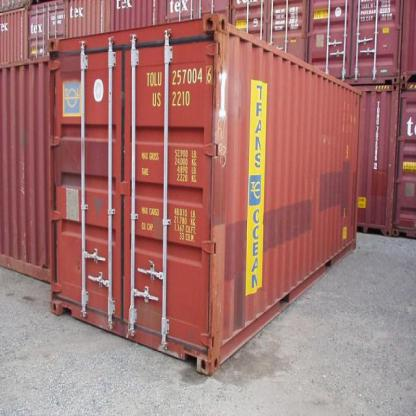Damage: (208, 270, 224, 371), (207, 28, 237, 67), (316, 117, 336, 152), (55, 52, 89, 65)
